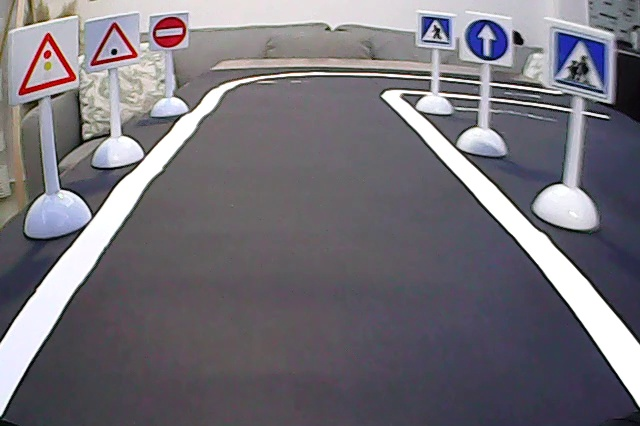do not enter: (148, 15, 190, 51)
green light: (90, 17, 140, 68)
pedestrian crossing: (419, 13, 452, 46)
red light: (15, 29, 78, 100)
school crossing: (545, 25, 610, 100)
